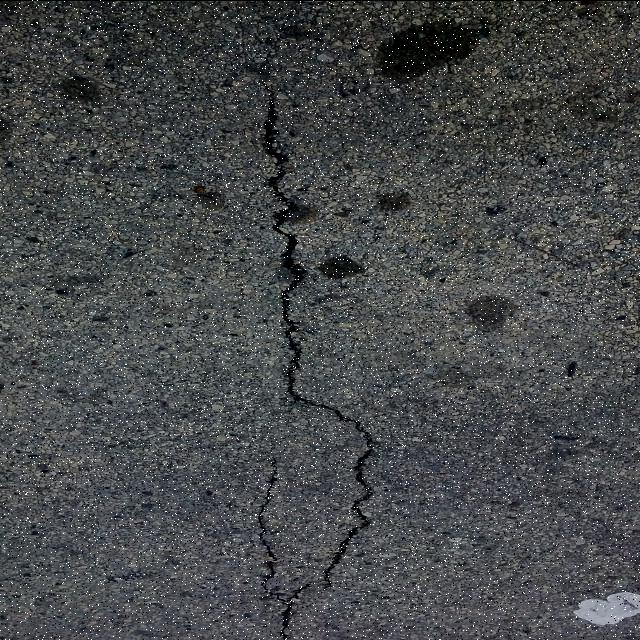Crack: (264, 99, 373, 589), (258, 455, 312, 640)
